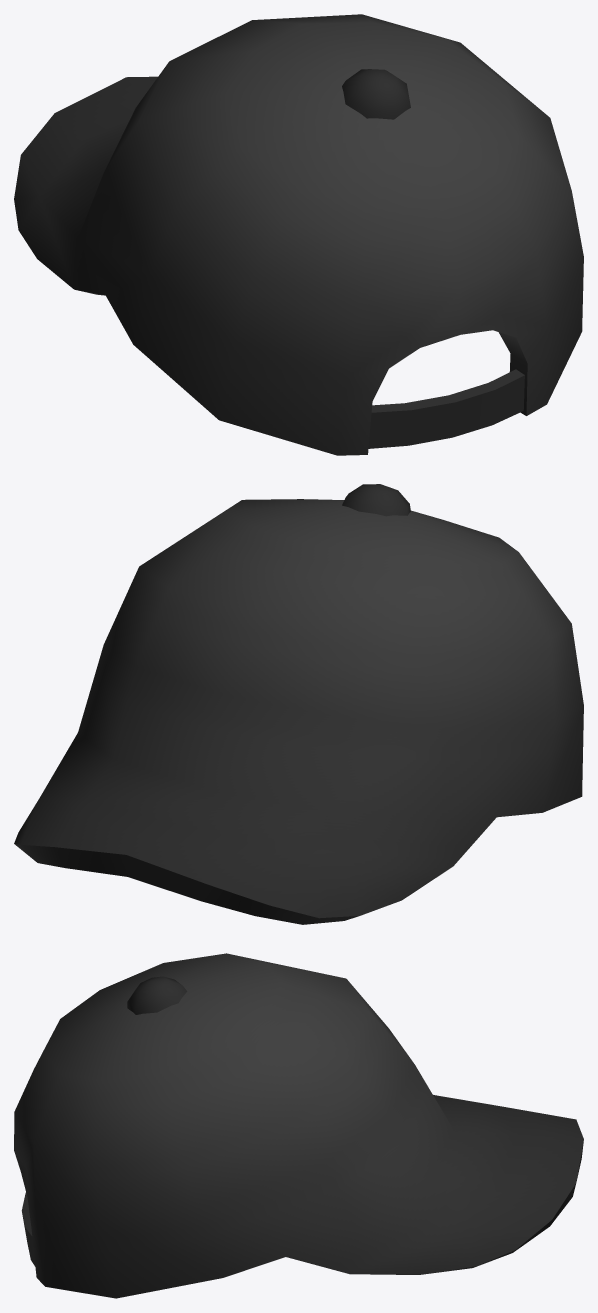
Rendered from Headgear_1.fbx.
3 renders of one model, top to bottom at view 1: azimuth 30°, elevation 25°; view 2: azimuth 150°, elevation 25°; view 3: azimuth 270°, elevation 25°, orthographic. The views are drawn at different scales.
Visible parts, largest first — view 1: Headgear_1; view 2: Headgear_1; view 3: Headgear_1.
Boxes of the visible parts, x1=… form: Headgear_1: x1=14, y1=14, x2=583, y2=455; Headgear_1: x1=14, y1=484, x2=583, y2=924; Headgear_1: x1=14, y1=953, x2=583, y2=1298.
Bounding box in the file's own units: 73.93 × 53.53 × 104.
